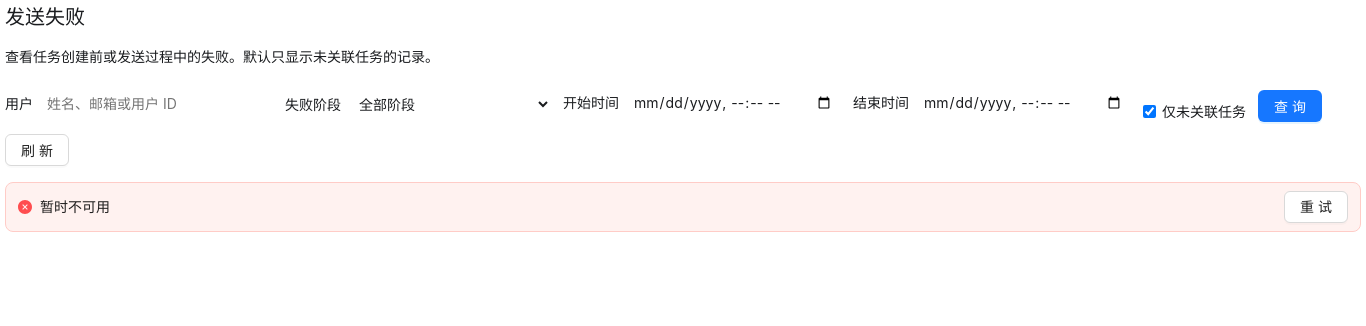
Scenario: send failure audit › offers retry after a failed request and renders an empty result
This screenshot has width=1366, height=326.
Expected: the text "暂时不可用" is shown, x1=40 y1=198 x2=110 y2=215
Click the button "重 试" at [1316, 207], box x1=1284 y1=191 x2=1348 y2=223
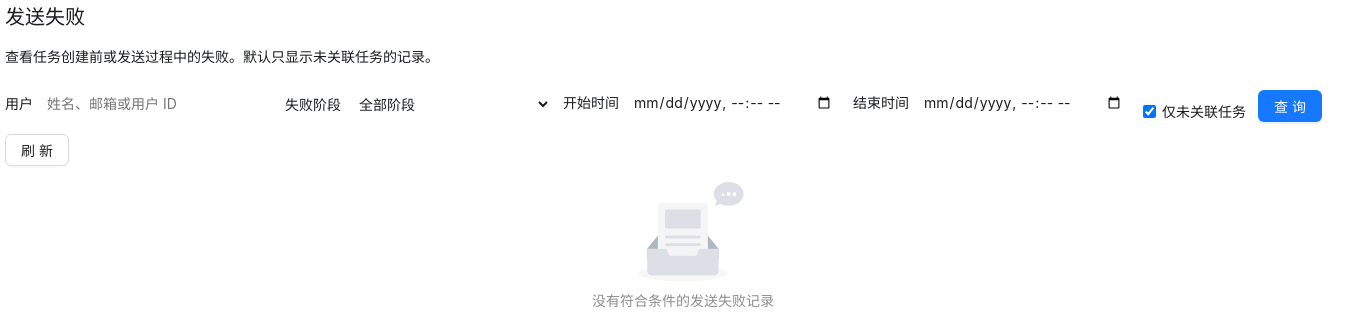
Expected: the text "没有符合条件的发送失败记录" is shown, x1=592 y1=292 x2=774 y2=309
